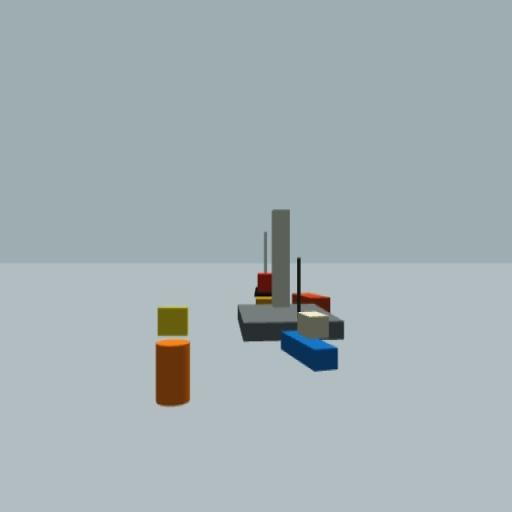buoy: (156, 306, 192, 407)
fishing_boat: (281, 258, 340, 373)
